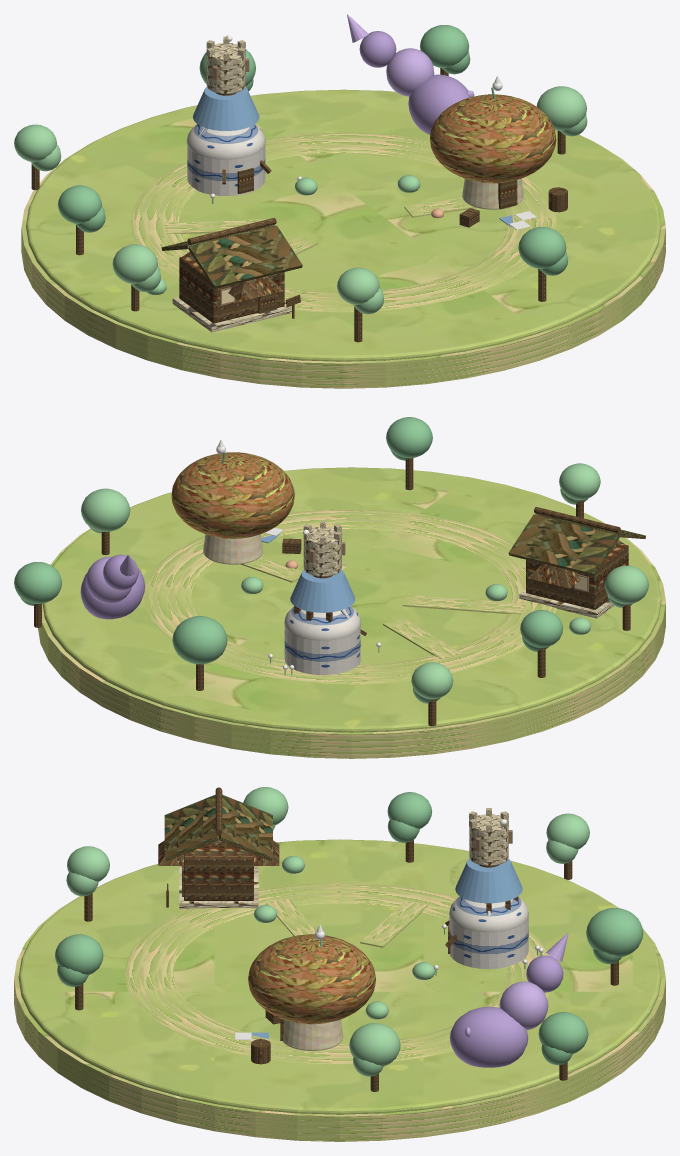
The model's file is village_textured2.glb.
The picture shows the model from 3 angles, top to bottom: view 1: azimuth 30°, elevation 25°; view 2: azimuth 150°, elevation 25°; view 3: azimuth 270°, elevation 25°; orthographic projection. The views are drawn at different scales.
Parts seen in each view (by area): view 1: terrain_grass, terrain_dirt, path_ring, mushroom_cap, cottage_roof_l, cottage_wall, tower_pot, tower_cauldron, tower_pot_shoulder, purple_b1, purple_b2, tower_stone (+14 smaller); view 2: terrain_grass, terrain_dirt, path_ring, mushroom_cap, cottage_roof_r, tower_pot, cottage_wall, tree_crown_6, tower_cauldron, tower_pot_shoulder, tree_crown_3, tree_crown_4 (+16 smaller); view 3: terrain_grass, terrain_dirt, path_ring, mushroom_cap, cottage_wall, purple_b1, tower_pot, cottage_roof_l, cottage_roof_r, tower_cauldron, tree_crown_6, tower_pot_shoulder (+17 smaller).
Boxes of the visible parts, x1=… form: terrain_grass: x1=26, y1=89, x2=661, y2=361; terrain_dirt: x1=21, y1=144, x2=665, y2=388; path_ring: x1=131, y1=132, x2=556, y2=312; mushroom_cap: x1=430, y1=94, x2=556, y2=183; cottage_roof_l: x1=188, y1=225, x2=302, y2=288; cottage_wall: x1=179, y1=254, x2=284, y2=323; tower_pot: x1=187, y1=145, x2=265, y2=195; tower_cauldron: x1=193, y1=87, x2=259, y2=130; tower_pot_shoulder: x1=186, y1=124, x2=265, y2=159; purple_b1: x1=408, y1=74, x2=469, y2=134; purple_b2: x1=386, y1=48, x2=434, y2=96; tower_stone: x1=206, y1=43, x2=245, y2=93; terrain_grass: x1=42, y1=467, x2=661, y2=732; terrain_dirt: x1=38, y1=519, x2=665, y2=758; path_ring: x1=144, y1=509, x2=556, y2=684; mushroom_cap: x1=171, y1=452, x2=294, y2=538; cottage_roof_r: x1=508, y1=514, x2=619, y2=576; tower_pot: x1=284, y1=626, x2=360, y2=674; cottage_wall: x1=526, y1=542, x2=628, y2=609; tree_crown_6: x1=172, y1=616, x2=227, y2=664; tower_cauldron: x1=290, y1=569, x2=354, y2=612; tower_pot_shoulder: x1=284, y1=606, x2=361, y2=640; tree_crown_3: x1=81, y1=488, x2=130, y2=531; tree_crown_4: x1=14, y1=562, x2=61, y2=603; terrain_grass: x1=18, y1=839, x2=661, y2=1114; terrain_dirt: x1=14, y1=894, x2=665, y2=1141; path_ring: x1=124, y1=882, x2=550, y2=1064; mushroom_cap: x1=248, y1=934, x2=375, y2=1024; cottage_wall: x1=184, y1=835, x2=253, y2=900; purple_b1: x1=449, y1=1006, x2=528, y2=1067; tower_pot: x1=449, y1=916, x2=528, y2=969; cottage_roof_l: x1=164, y1=794, x2=218, y2=861; cottage_roof_r: x1=219, y1=794, x2=272, y2=861; tower_cauldron: x1=455, y1=858, x2=522, y2=903; tree_crown_6: x1=586, y1=908, x2=643, y2=957; tower_pot_shoulder: x1=449, y1=896, x2=528, y2=932.
Size of the model in its own units: 28 by 7.96 by 28.
19 materials, 8 textured.
